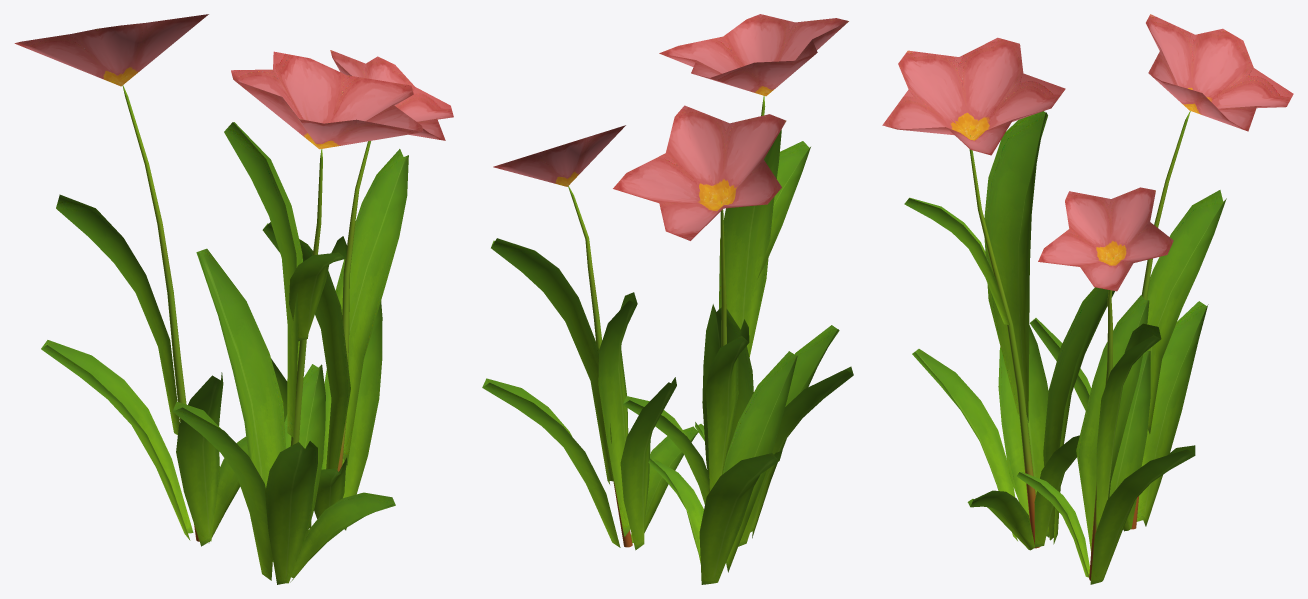
The model's file is jardin_flores1.obj.
The picture shows the model from 3 angles, left to right: view 1: azimuth 30°, elevation 25°; view 2: azimuth 150°, elevation 25°; view 3: azimuth 270°, elevation 25°; orthographic projection. The views are drawn at different scales.
Parts seen in each view (by area): view 1: jardin_flores1; view 2: jardin_flores1; view 3: jardin_flores1.
Boxes of the visible parts, x1=… form: jardin_flores1: x1=14, y1=14, x2=453, y2=584; jardin_flores1: x1=482, y1=14, x2=853, y2=584; jardin_flores1: x1=882, y1=14, x2=1293, y2=584.
Size of the model in its own units: 1.49 by 2.05 by 1.59.
